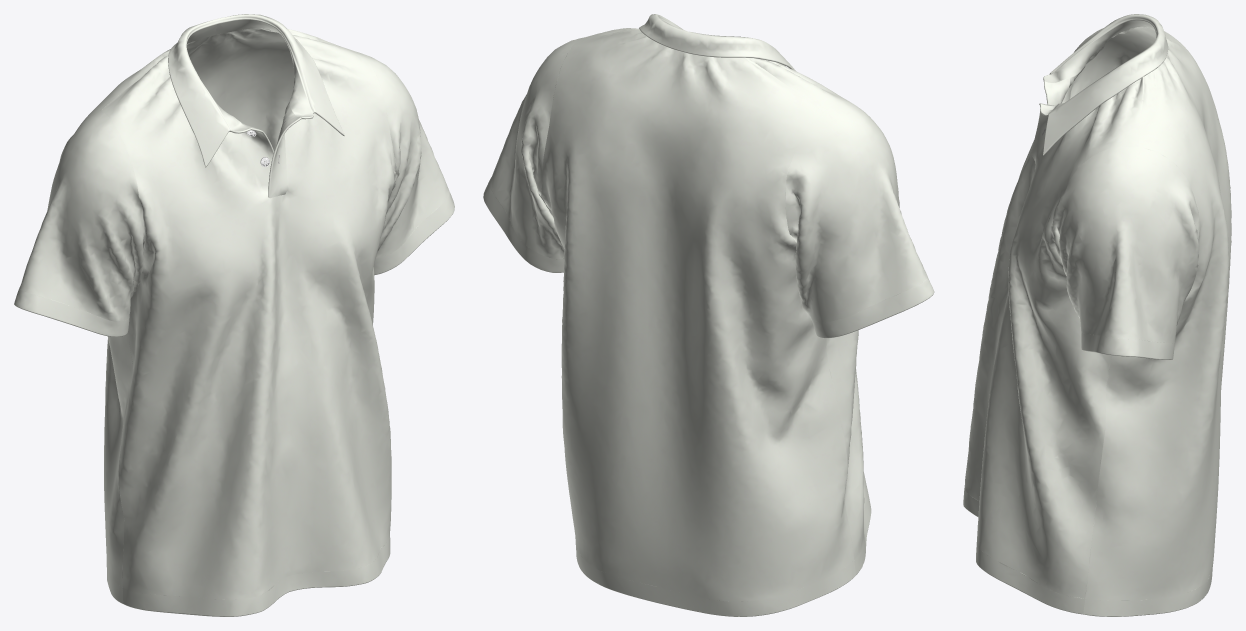
File: polo.glb
3 renders of one model, left to right at view 1: azimuth 30°, elevation 25°; view 2: azimuth 150°, elevation 25°; view 3: azimuth 270°, elevation 25°, orthographic. The views are drawn at different scales.
Visible parts, largest first — view 1: Short Sleeve Polo; view 2: Short Sleeve Polo; view 3: Short Sleeve Polo.
Boxes of the visible parts, x1=… form: Short Sleeve Polo: x1=14, y1=14, x2=454, y2=616; Short Sleeve Polo: x1=483, y1=14, x2=934, y2=616; Short Sleeve Polo: x1=963, y1=14, x2=1231, y2=616.
Size of the model in its own units: 0.6033 by 0.7168 by 0.3268.
3 materials, 2 textured.
